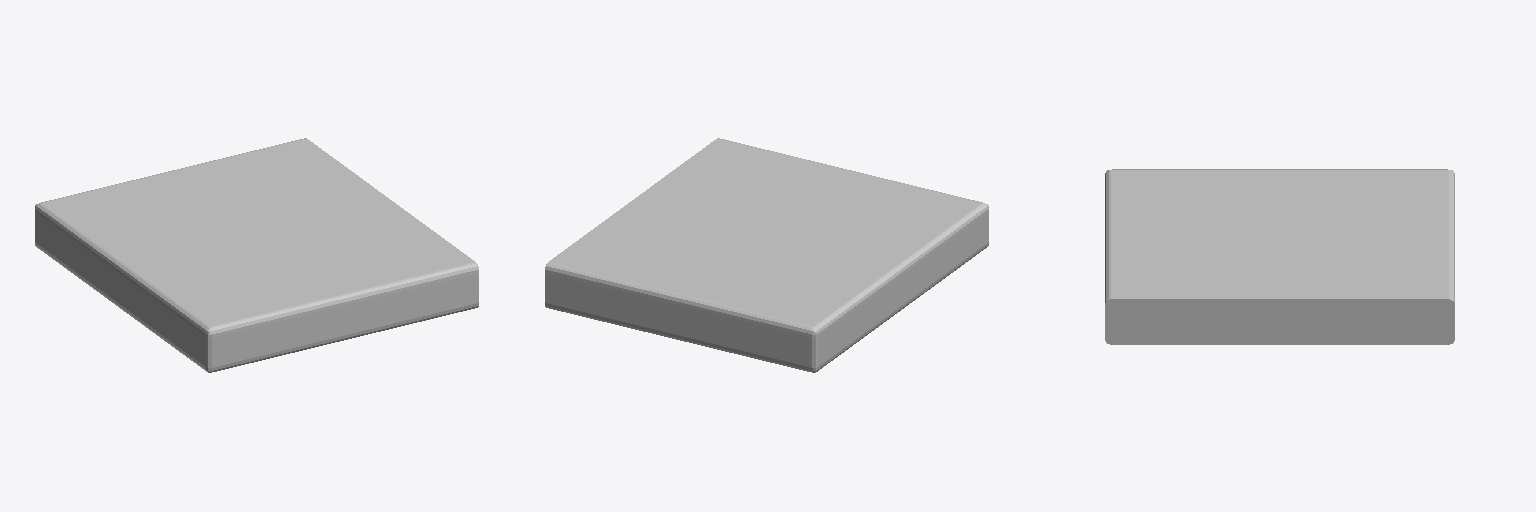
Rendered from block_2_collision_0.obj.
3 views of the same model, side by side, from view 1: azimuth 30°, elevation 25°; view 2: azimuth 150°, elevation 25°; view 3: azimuth 270°, elevation 25° (orthographic).
Bounding box in the file's own units: 0.1353 × 0.0217 × 0.1517.